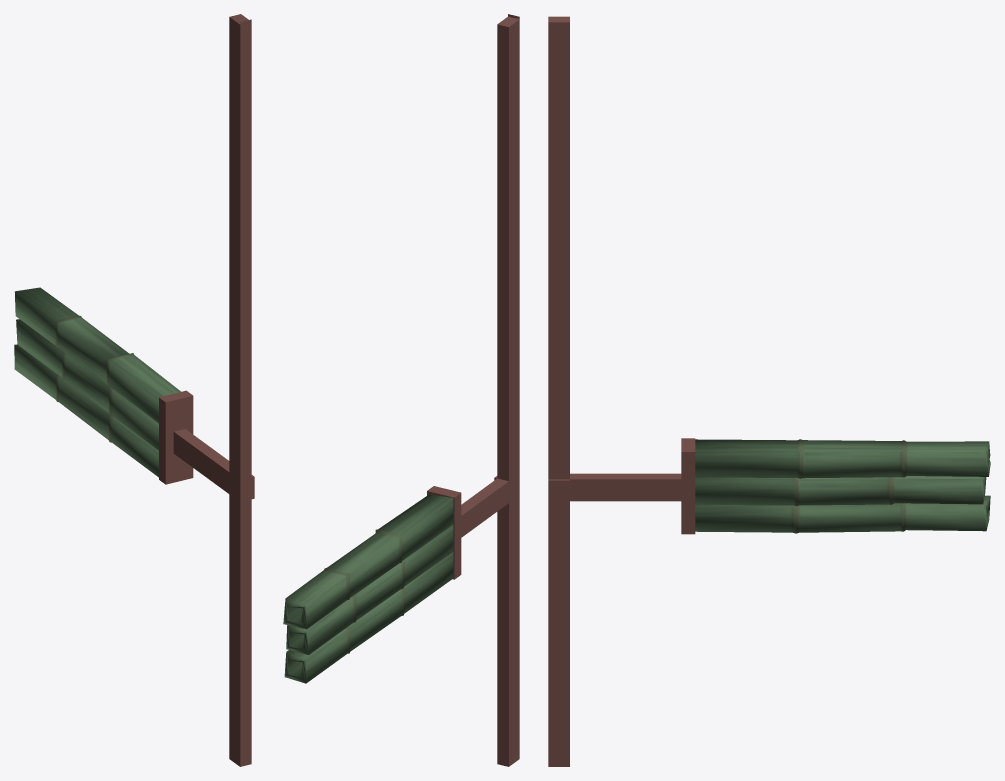
The model's file is bamboo_left_3.glb.
3 views of the same model, side by side, from view 1: azimuth 30°, elevation 25°; view 2: azimuth 150°, elevation 25°; view 3: azimuth 270°, elevation 25° (orthographic).
Parts seen in each view (by area): view 1: Stand.005, Obstacle; view 2: Stand.005, Obstacle; view 3: Obstacle, Stand.005.
Boxes of the visible parts, x1,y1,x2,y2 form: Stand.005: [159, 14, 254, 766]; Obstacle: [14, 287, 180, 477]; Stand.005: [427, 14, 519, 766]; Obstacle: [283, 494, 453, 683]; Obstacle: [695, 439, 990, 533]; Stand.005: [548, 16, 695, 766].
Bounding box in the file's own units: 0.2157 × 5.55 × 2.98.
Materials: 2 (1 with a texture image).
